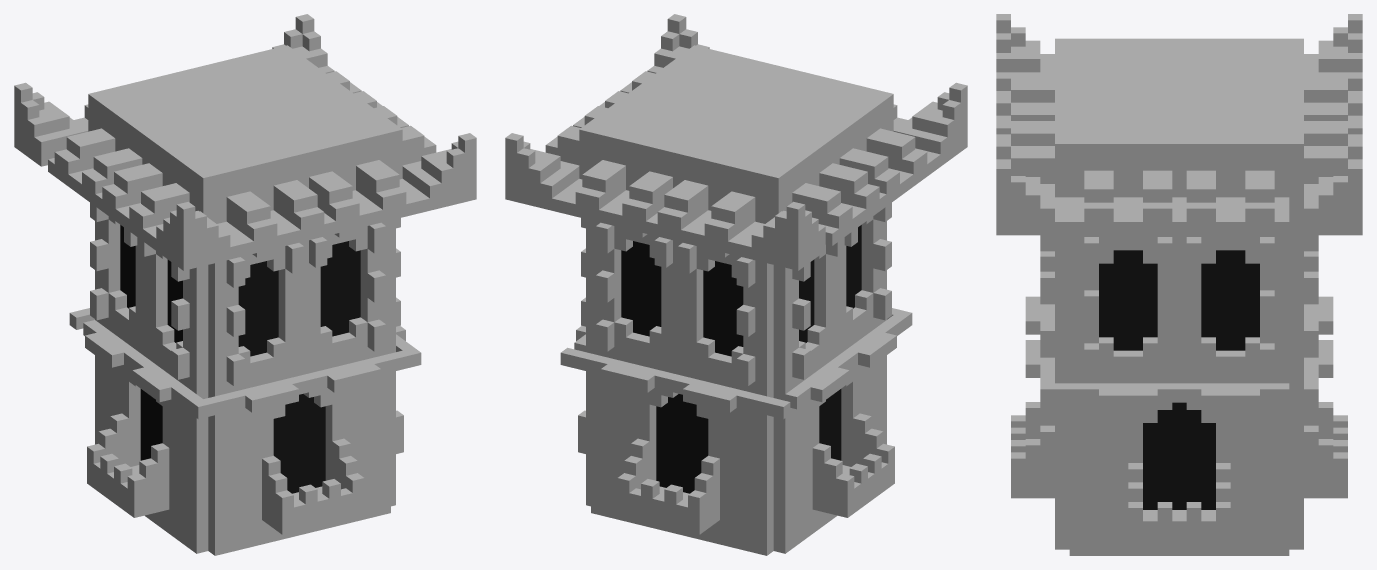
Rendered from TwentyThreeModel.fbx.
3 renders of one model, left to right at view 1: azimuth 30°, elevation 25°; view 2: azimuth 150°, elevation 25°; view 3: azimuth 270°, elevation 25°, orthographic. The views are drawn at different scales.
Parts seen in each view (by area): view 1: Box; view 2: Box; view 3: Box.
Part boxes in pixels (left/top/right/bottom): Box: left=14, top=14, right=476, bottom=555; Box: left=505, top=14, right=967, bottom=555; Box: left=996, top=14, right=1362, bottom=555.
Bounding box in the file's own units: 25 × 31 × 25.
Materials: 1 (1 with a texture image).
